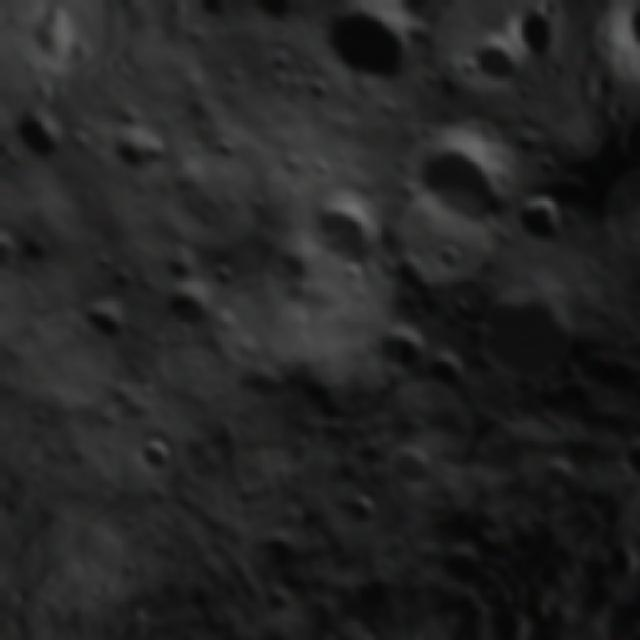crater: (402, 121, 521, 241), (310, 0, 426, 92), (303, 179, 402, 284), (363, 308, 432, 377), (468, 27, 535, 98), (155, 274, 222, 344), (514, 182, 580, 247), (19, 110, 84, 170), (74, 291, 135, 352), (128, 428, 186, 484), (334, 478, 386, 532), (423, 344, 477, 394), (427, 230, 476, 284), (205, 250, 249, 296), (238, 0, 304, 29), (626, 264, 640, 394), (614, 421, 640, 485), (205, 128, 246, 168), (0, 228, 26, 282), (300, 74, 337, 109)
